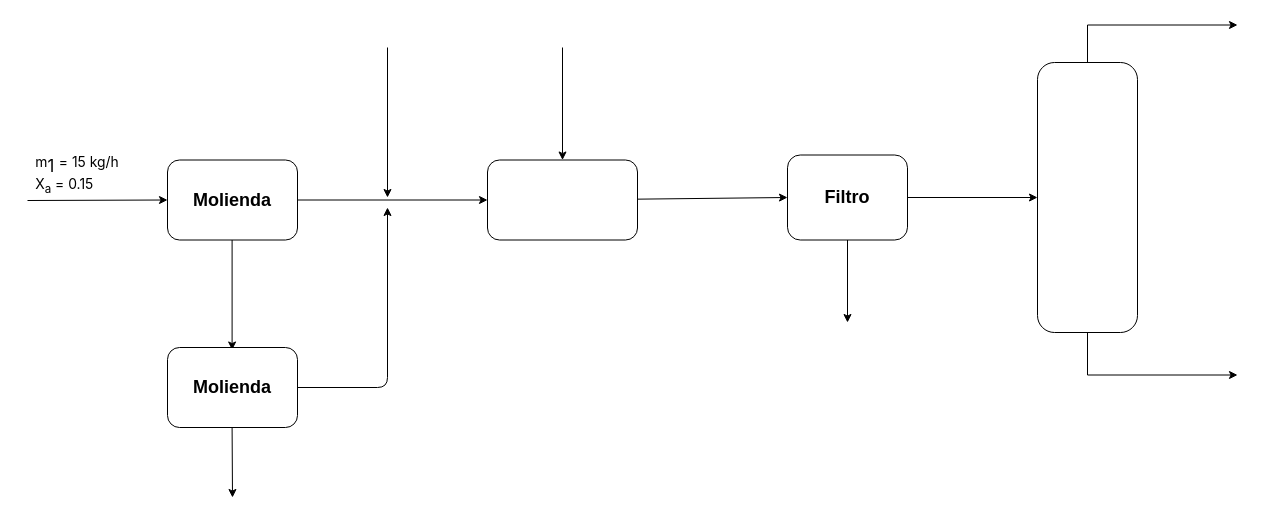
The diagram is 1263 pixels wide and 523 high, and some of its shapes have lost their labels. Each missing label, with the box of its shape:
Destilador: (1036, 62, 1138, 332)
Fermentación: (486, 159, 638, 240)
